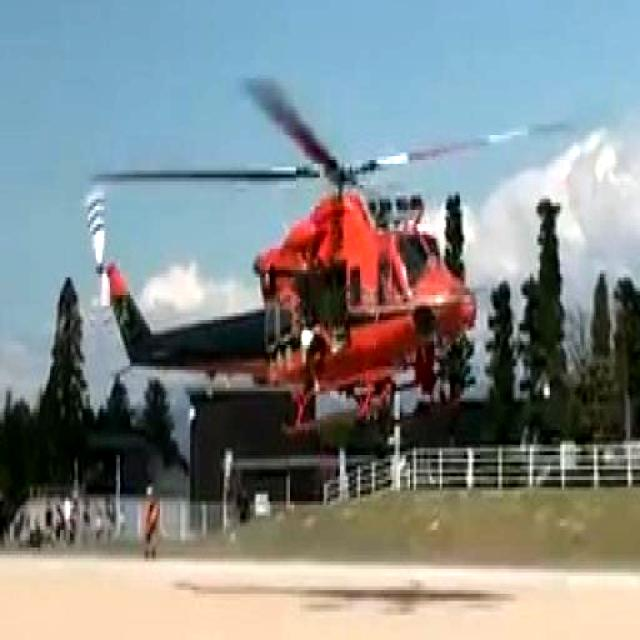drone: (86, 82, 545, 425)
